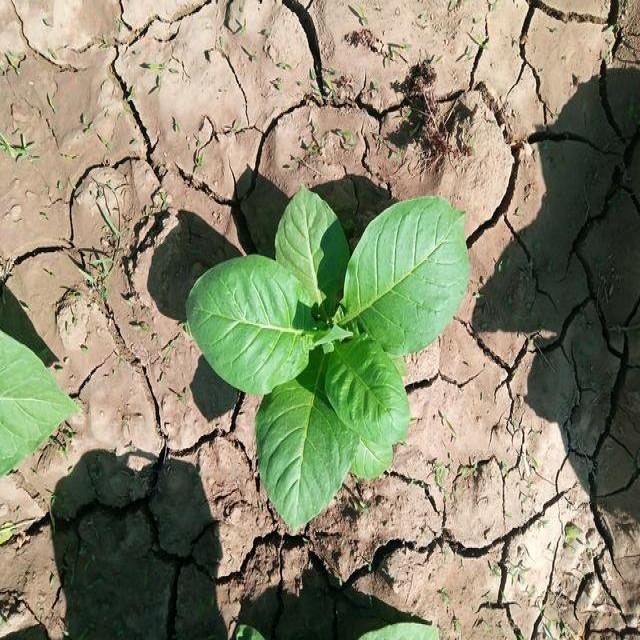crop: (198, 198, 468, 532), (0, 337, 87, 491)
